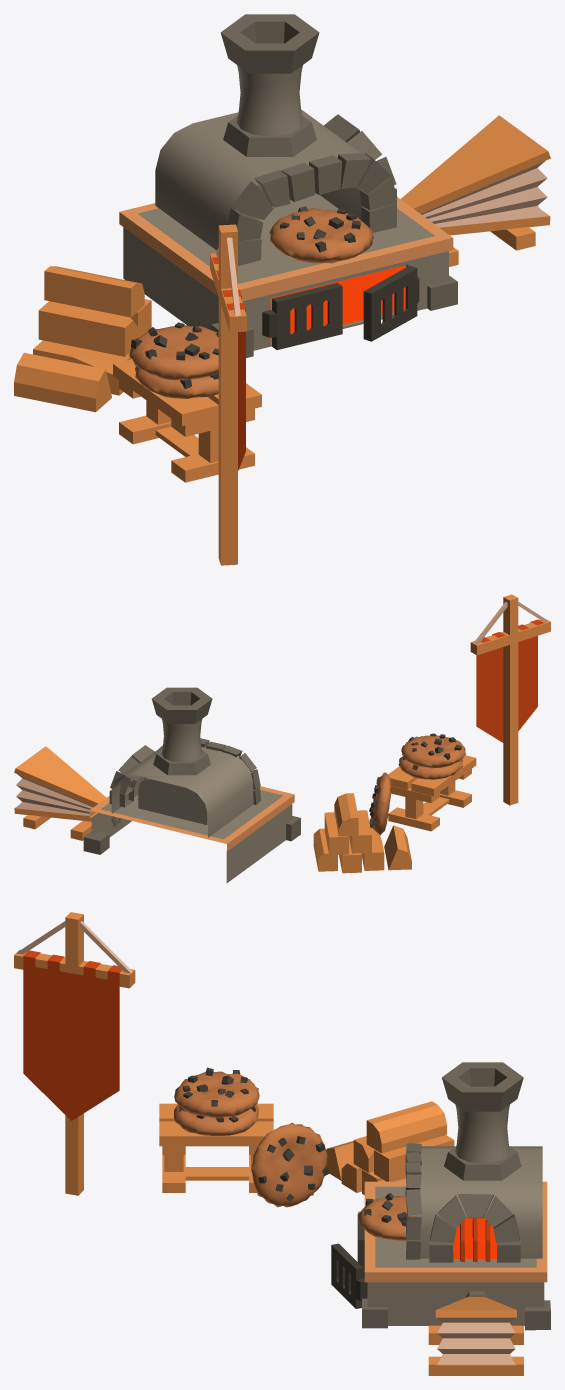
Rendered from sceneryStatic.glb.
3 views of the same model, one above another, from view 1: azimuth 30°, elevation 25°; view 2: azimuth 150°, elevation 25°; view 3: azimuth 270°, elevation 25° (orthographic). The views are drawn at different scales.
Visible parts, largest first — view 1: Cube.132, Cube.184, Cube.198, Cube.154, Cube.199, Cube.153, Cube.174, Cube.161, Cube.136, Cube.156, Cube.135, Cube.134 (+4 smaller); view 2: Cube.132, Cube.184, Cube.198, referenceCookieBanner, Cube.174, Cube.199, Cube.154, Cube.153, Cube.156, Cube.136, Cube.157, Cube.155 (+2 smaller); view 3: Cube.132, referenceCookieBanner, Cube.184, Cube.198, Cube.157, Cube.199, Cube.153, Cube.136, Cube.174, Cube.156, Cube.154, Cube.161 (+6 smaller).
Boxes of the visible parts, x1,y1,x2,y2 form: Cube.132: [123, 65, 448, 350]; Cube.184: [211, 14, 457, 357]; Cube.198: [14, 266, 157, 412]; Cube.154: [400, 115, 550, 235]; Cube.199: [113, 359, 261, 482]; Cube.153: [119, 197, 453, 301]; Cube.174: [210, 224, 246, 565]; Cube.161: [269, 206, 373, 263]; Cube.136: [421, 161, 547, 227]; Cube.156: [129, 322, 218, 379]; Cube.135: [262, 282, 342, 349]; Cube.134: [363, 265, 419, 341]; Cube.132: [91, 719, 292, 883]; Cube.184: [83, 687, 300, 854]; Cube.198: [313, 793, 411, 873]; referenceCookieBanner: [476, 619, 543, 742]; Cube.174: [470, 594, 550, 805]; Cube.199: [388, 755, 476, 831]; Cube.154: [14, 746, 106, 821]; Cube.153: [89, 786, 294, 851]; Cube.156: [401, 733, 465, 768]; Cube.136: [16, 774, 93, 815]; Cube.157: [369, 772, 391, 835]; Cube.155: [398, 756, 463, 779]; Cube.132: [367, 1104, 544, 1325]; referenceCookieBanner: [23, 950, 122, 1120]; Cube.184: [358, 1062, 550, 1330]; Cube.198: [326, 1101, 454, 1194]; Cube.157: [251, 1122, 329, 1207]; Cube.199: [159, 1103, 273, 1192]; Cube.153: [364, 1181, 547, 1282]; Cube.136: [437, 1317, 515, 1364]; Cube.174: [14, 912, 135, 1195]; Cube.156: [174, 1067, 259, 1117]; Cube.154: [435, 1296, 516, 1372]; Cube.161: [359, 1193, 415, 1240].
Size of the model in its own units: 8.27 by 4.6 by 8.11.
